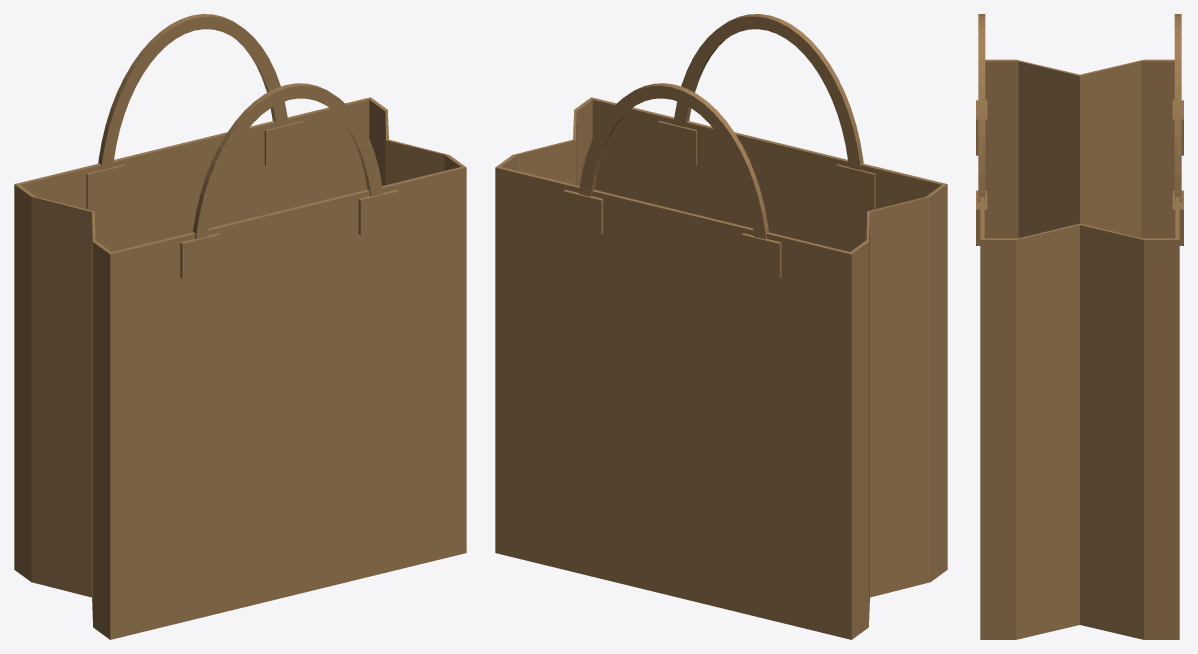
The model's file is NEW_RECOVERY_115_LOD0.fbx.
3 views of the same model, side by side, from view 1: azimuth 30°, elevation 25°; view 2: azimuth 150°, elevation 25°; view 3: azimuth 270°, elevation 25° (orthographic). The views are drawn at different scales.
Parts seen in each view (by area): view 1: Shopping_bag_finished_shell; view 2: Shopping_bag_finished_shell; view 3: Shopping_bag_finished_shell.
Part boxes in pixels (box(x1,y1,x2,y2)): Shopping_bag_finished_shell: box(14, 14, 466, 639); Shopping_bag_finished_shell: box(495, 14, 947, 639); Shopping_bag_finished_shell: box(976, 14, 1183, 639).
Bounding box in the file's own units: 30 × 14.6 × 41.
